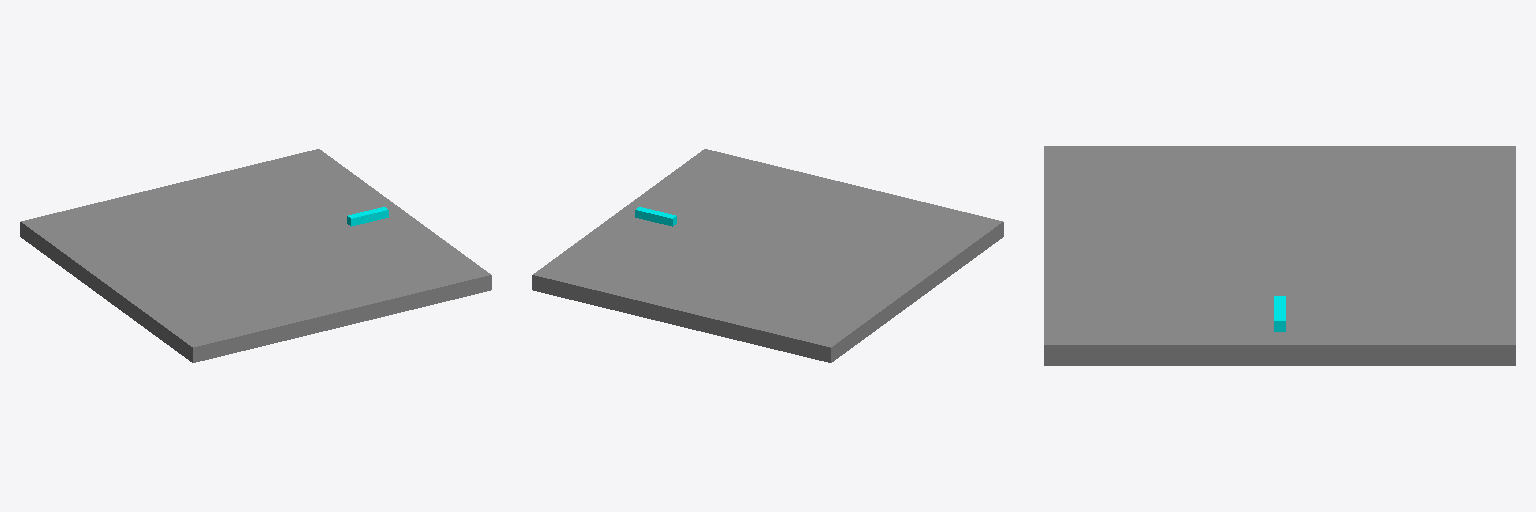
URDF robot description (lumi):
<?xml version="1.0" ?>
<!-- =================================================================================== -->
<!-- |    This document was autogenerated by xacro from [local-path]/ros/src/exercises/pick_and_place/model/robots/sim.urdf.xacro | -->
<!-- |    EDITING THIS FILE BY HAND IS NOT RECOMMENDED                                 | -->
<!-- =================================================================================== -->
<robot name="lumi" xmlns:xacro="http://www.ros.org/wiki/xacro">
  <!--<xacro:include filename="$(find franka_description)/robots/hand.xacro"/>-->
  <mujoco>
    <compiler balanceinertia="true" discardvisual="true" meshdir="../meshes/"/>
    <option cone="elliptic" impratio="10">
      <geom friction="1.5 0.005 0.0001" solimp="0.99 0.99 0.01" solref="0.01 1"/>
    </option>
  </mujoco>
  <link name="base_link"/>
  <link name="box">
    <inertial>
      <mass value="0.25"/>
      <inertia ixx="0.1" ixy="0" ixz="0" iyy="0.1" iyz="0" izz="0.1"/>
    </inertial>
    <visual>
      <geometry>
        <box size="0.25 0.05 0.05"/>
      </geometry>
      <material name="Cyan">
        <color rgba="0 1.0 1.0 1.0"/>
      </material>
    </visual>
    <collision>
      <geometry>
        <box size="0.25 0.05 0.05"/>
      </geometry>
      <material name="Cyan">
        <color rgba="0 1.0 1.0 1.0"/>
      </material>
    </collision>
  </link>
  <joint name="box_joint" type="floating">
    <origin rpy="0 0 0" xyz="0.75 0 0.026"/>
    <parent link="base_link"/>
    <child link="box"/>
    <dynamics damping="0.0" friction="0.2"/>
  </joint>
  <link name="floor">
    <visual>
      <geometry>
        <box size="2 2 0.1"/>
      </geometry>
      <material name="Gray">
        <color rgba="0.6 0.6 0.6 1.0"/>
      </material>
    </visual>
    <collision>
      <geometry>
        <box size="2 2 0.1"/>
      </geometry>
      <material name="Gray">
        <color rgba="0.6 0.6 0.6 1.0"/>
      </material>
    </collision>
  </link>
  <joint name="floor_joint" type="fixed">
    <origin rpy="0 0 0" xyz="0 0 -0.051"/>
    <parent link="base_link"/>
    <child link="floor"/>
  </joint>
  <joint name="lumi_joint_base_link" type="fixed">
    <parent link="base_link"/>
    <child link="lumi_link0"/>
    <origin rpy="0 0 0" xyz="0 0 0"/>
  </joint>
  <link name="lumi_link0">
    <visual>
      <geometry>
        <mesh filename="package://franka_description/meshes/visual/link0.dae"/>
      </geometry>
    </visual>
    <collision>
      <geometry>
        <mesh filename="package://franka_description/meshes/collision/link0.stl"/>
      </geometry>
    </collision>
  </link>
  <link name="lumi_link1">
    <visual>
      <geometry>
        <mesh filename="package://franka_description/meshes/visual/link1.dae"/>
      </geometry>
    </visual>
    <collision>
      <geometry>
        <mesh filename="package://franka_description/meshes/collision/link1.stl"/>
      </geometry>
    </collision>
  </link>
  <joint name="lumi_joint1" type="revolute">
    <safety_controller k_position="100.0" k_velocity="40.0" soft_lower_limit="-2.8973" soft_upper_limit="2.8973"/>
    <origin rpy="0 0 0" xyz="0 0 0.333"/>
    <parent link="lumi_link0"/>
    <child link="lumi_link1"/>
    <axis xyz="0 0 1"/>
    <limit effort="87" lower="-2.8973" upper="2.8973" velocity="2.1750"/>
  </joint>
  <link name="lumi_link2">
    <visual>
      <geometry>
        <mesh filename="package://franka_description/meshes/visual/link2.dae"/>
      </geometry>
    </visual>
    <collision>
      <geometry>
        <mesh filename="package://franka_description/meshes/collision/link2.stl"/>
      </geometry>
    </collision>
  </link>
  <joint name="lumi_joint2" type="revolute">
    <safety_controller k_position="100.0" k_velocity="40.0" soft_lower_limit="-1.7628" soft_upper_limit="1.7628"/>
    <origin rpy="-1.57079632679 0 0" xyz="0 0 0"/>
    <parent link="lumi_link1"/>
    <child link="lumi_link2"/>
    <axis xyz="0 0 1"/>
    <limit effort="87" lower="-1.7628" upper="1.7628" velocity="2.1750"/>
  </joint>
  <link name="lumi_link3">
    <visual>
      <geometry>
        <mesh filename="package://franka_description/meshes/visual/link3.dae"/>
      </geometry>
    </visual>
    <collision>
      <geometry>
        <mesh filename="package://franka_description/meshes/collision/link3.stl"/>
      </geometry>
    </collision>
  </link>
  <joint name="lumi_joint3" type="revolute">
    <safety_controller k_position="100.0" k_velocity="40.0" soft_lower_limit="-2.8973" soft_upper_limit="2.8973"/>
    <origin rpy="1.57079632679 0 0" xyz="0 -0.316 0"/>
    <parent link="lumi_link2"/>
    <child link="lumi_link3"/>
    <axis xyz="0 0 1"/>
    <limit effort="87" lower="-2.8973" upper="2.8973" velocity="2.1750"/>
  </joint>
  <link name="lumi_link4">
    <visual>
      <geometry>
        <mesh filename="package://franka_description/meshes/visual/link4.dae"/>
      </geometry>
    </visual>
    <collision>
      <geometry>
        <mesh filename="package://franka_description/meshes/collision/link4.stl"/>
      </geometry>
    </collision>
  </link>
  <joint name="lumi_joint4" type="revolute">
    <safety_controller k_position="100.0" k_velocity="40.0" soft_lower_limit="-3.0718" soft_upper_limit="-0.0698"/>
    <origin rpy="1.57079632679 0 0" xyz="0.0825 0 0"/>
    <parent link="lumi_link3"/>
    <child link="lumi_link4"/>
    <axis xyz="0 0 1"/>
    <limit effort="87" lower="-3.0718" upper="-0.0698" velocity="2.1750"/>
  </joint>
  <link name="lumi_link5">
    <visual>
      <geometry>
        <mesh filename="package://franka_description/meshes/visual/link5.dae"/>
      </geometry>
    </visual>
    <collision>
      <geometry>
        <mesh filename="package://franka_description/meshes/collision/link5.stl"/>
      </geometry>
    </collision>
  </link>
  <joint name="lumi_joint5" type="revolute">
    <safety_controller k_position="100.0" k_velocity="40.0" soft_lower_limit="-2.8973" soft_upper_limit="2.8973"/>
    <origin rpy="-1.57079632679 0 0" xyz="-0.0825 0.384 0"/>
    <parent link="lumi_link4"/>
    <child link="lumi_link5"/>
    <axis xyz="0 0 1"/>
    <limit effort="12" lower="-2.8973" upper="2.8973" velocity="2.6100"/>
  </joint>
  <link name="lumi_link6">
    <visual>
      <geometry>
        <mesh filename="package://franka_description/meshes/visual/link6.dae"/>
      </geometry>
    </visual>
    <collision>
      <geometry>
        <mesh filename="package://franka_description/meshes/collision/link6.stl"/>
      </geometry>
    </collision>
  </link>
  <joint name="lumi_joint6" type="revolute">
    <safety_controller k_position="100.0" k_velocity="40.0" soft_lower_limit="-0.0175" soft_upper_limit="3.7525"/>
    <origin rpy="1.57079632679 0 0" xyz="0 0 0"/>
    <parent link="lumi_link5"/>
    <child link="lumi_link6"/>
    <axis xyz="0 0 1"/>
    <limit effort="12" lower="-0.0175" upper="3.7525" velocity="2.6100"/>
  </joint>
  <link name="lumi_link7">
    <visual>
      <geometry>
        <mesh filename="package://franka_description/meshes/visual/link7.dae"/>
      </geometry>
    </visual>
    <collision>
      <geometry>
        <mesh filename="package://franka_description/meshes/collision/link7.stl"/>
      </geometry>
    </collision>
  </link>
  <joint name="lumi_joint7" type="revolute">
    <safety_controller k_position="100.0" k_velocity="40.0" soft_lower_limit="-2.8973" soft_upper_limit="2.8973"/>
    <origin rpy="1.57079632679 0 0" xyz="0.088 0 0"/>
    <parent link="lumi_link6"/>
    <child link="lumi_link7"/>
    <axis xyz="0 0 1"/>
    <limit effort="12" lower="-2.8973" upper="2.8973" velocity="2.6100"/>
  </joint>
  <link name="lumi_link8"/>
  <joint name="lumi_joint8" type="fixed">
    <origin rpy="0 0 0" xyz="0 0 0.107"/>
    <parent link="lumi_link7"/>
    <child link="lumi_link8"/>
    <axis xyz="0 0 0"/>
  </joint>
  <joint name="lumi_hand_joint" type="fixed">
    <parent link="lumi_link8"/>
    <child link="lumi_hand"/>
    <origin rpy="0 0 -0.785398163397" xyz="0 0 0"/>
  </joint>
  <link name="lumi_hand">
    <visual>
      <geometry>
        <mesh filename="package://franka_description/meshes/visual/hand.dae"/>
      </geometry>
    </visual>
    <collision>
      <geometry>
        <mesh filename="package://franka_description/meshes/collision/hand.stl"/>
      </geometry>
    </collision>
  </link>
  <link name="lumi_leftfinger">
    <visual>
      <geometry>
        <mesh filename="package://franka_description/meshes/visual/finger.dae"/>
      </geometry>
    </visual>
    <collision>
      <origin xyz="0 0.0125 0.028"/>
      <geometry>
        <box size="0.021 0.025 0.056"/>
        <!--<mesh filename="package://franka_description/meshes/collision/finger.stl"/>-->
      </geometry>
    </collision>
  </link>
  <link name="lumi_rightfinger">
    <visual>
      <origin rpy="0 0 3.14159265359" xyz="0 0 0"/>
      <geometry>
        <mesh filename="package://franka_description/meshes/visual/finger.dae"/>
      </geometry>
    </visual>
    <collision>
      <!--<origin xyz="0 0 0" rpy="0 0 ${pi}"/>-->
      <origin xyz="0 -0.0125 0.028"/>
      <geometry>
        <box size="0.021 0.025 0.056"/>
        <!--<mesh filename="package://franka_description/meshes/collision/finger.stl"/>-->
      </geometry>
    </collision>
  </link>
  <joint name="lumi_finger_joint1" type="prismatic">
    <parent link="lumi_hand"/>
    <child link="lumi_leftfinger"/>
    <origin rpy="0 0 0" xyz="0 0 0.0584"/>
    <axis xyz="0 1 0"/>
    <limit effort="20" lower="0.0" upper="0.04" velocity="0.2"/>
  </joint>
  <joint name="lumi_finger_joint2" type="prismatic">
    <parent link="lumi_hand"/>
    <child link="lumi_rightfinger"/>
    <origin rpy="0 0 0" xyz="0 0 0.0584"/>
    <axis xyz="0 -1 0"/>
    <limit effort="20" lower="0.0" upper="0.04" velocity="0.2"/>
    <mimic joint="lumi_finger_joint1"/>
  </joint>
</robot>

--- Facts derived from the render (not from the file) ---
Views: 3 orthographic renders of the robot side by side, from view 1: azimuth 30°, elevation 25°; view 2: azimuth 150°, elevation 25°; view 3: azimuth 270°, elevation 25°.
Model lumi with 15 links and 14 joints (7 revolute, 2 prismatic, 4 fixed, 1 floating), rooted at base_link, posed all joints at 0 but 1 set to mid-range because 0 is outside their limits (lumi_joint4 = -1.57).
Links seen in each view (by area): view 1: floor; view 2: floor; view 3: floor.
Boxes of the visible links, x1,y1,x2,y2 form: floor: (20, 149, 491, 362); floor: (532, 149, 1003, 362); floor: (1044, 146, 1515, 365).
Bounding box of the posed robot: 2 × 2 × 0.152 m (x, y, z).
Meshes: 10 distinct files referenced, 0 mesh visuals loaded (none loaded); not drawn: 11 (reference not matched to a file when rendering).